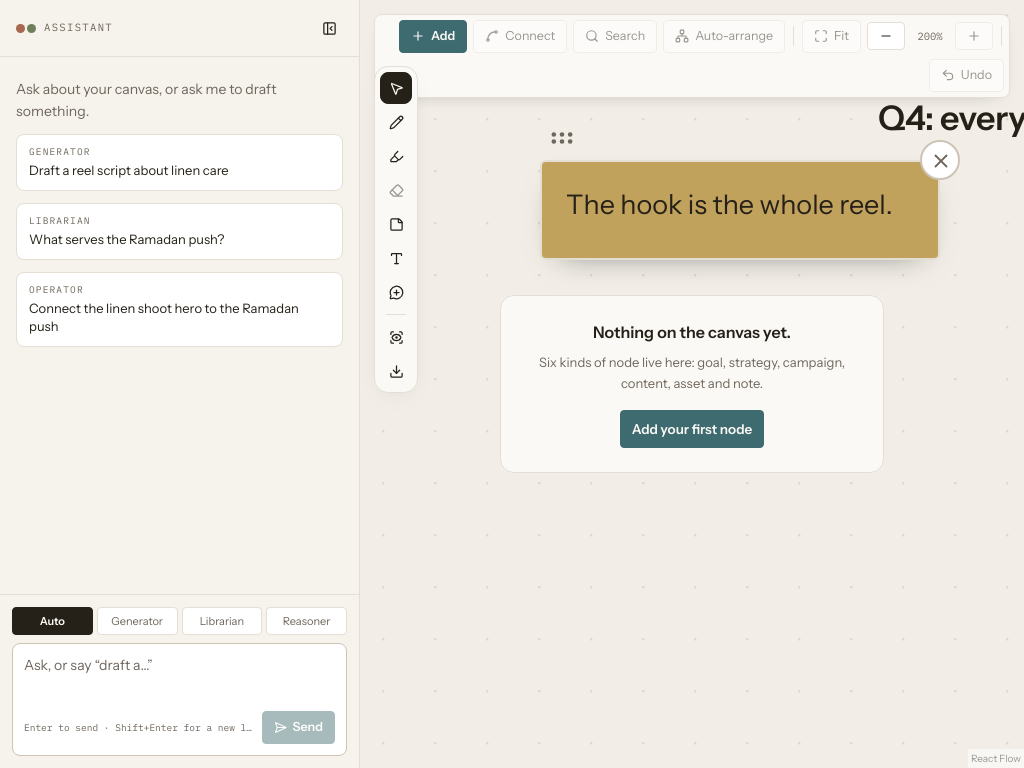
Test: when a save fails › keeps an edit's text on screen, with Retry on the mark, when the patch fails
This screenshot has width=1024, height=768.
Check: the element named "Whiteboard tools" is shown, box top-left (374, 66), bottom-right (418, 393)
Replace the text in the text box named "Sticky note" with "Cut the first three seconds" at (740, 206), box top-left (566, 186), bottom-right (914, 226)
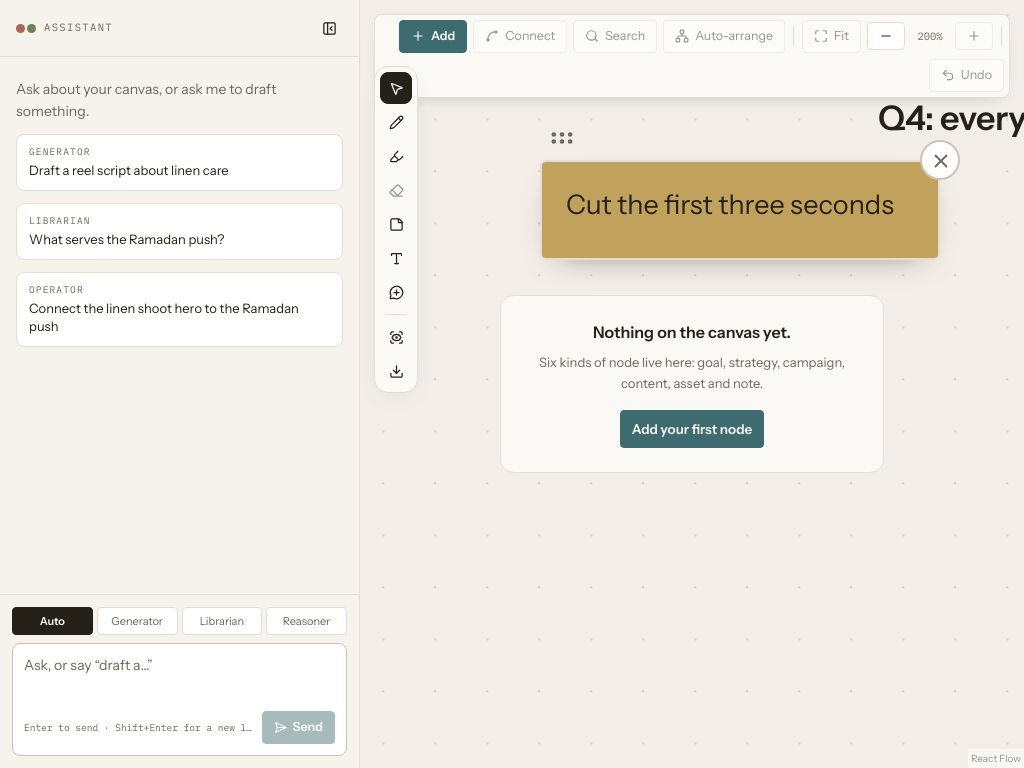
Leave the text box named "Sticky note", box top-left (566, 186), bottom-right (914, 226)
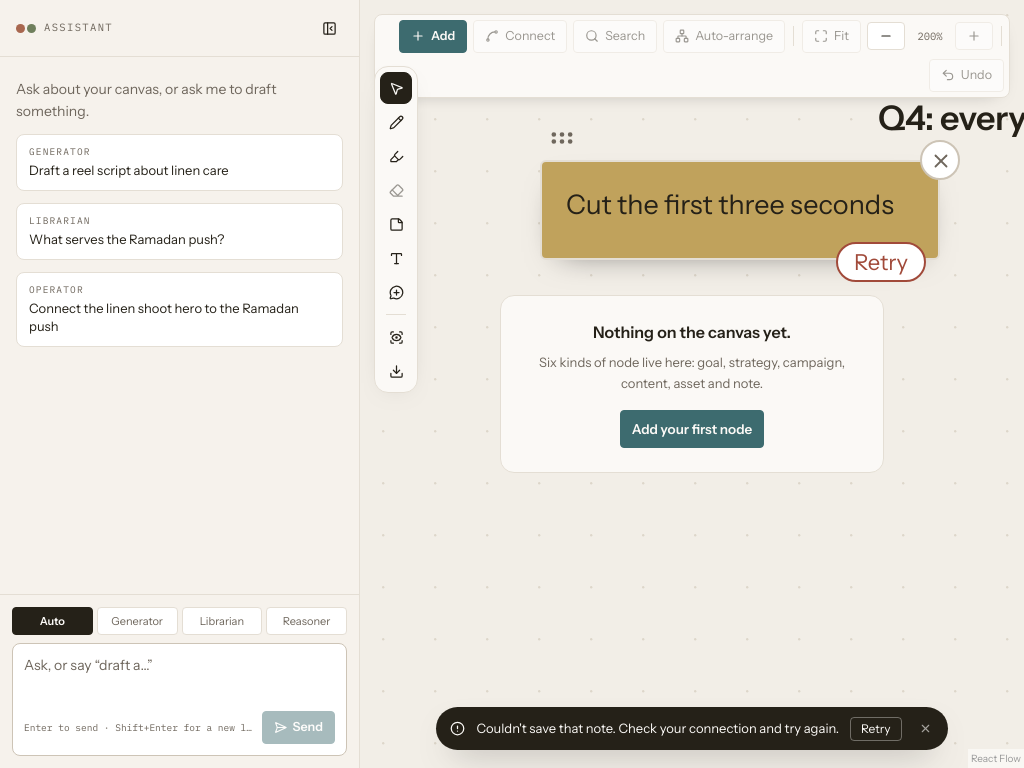
Check: the text "Couldn't save that note. Check your connection and try again." is shown, box top-left (476, 720), bottom-right (839, 738)
Check: the button with aria-label "Retry saving this note" is shown, box top-left (836, 241), bottom-right (926, 282)
